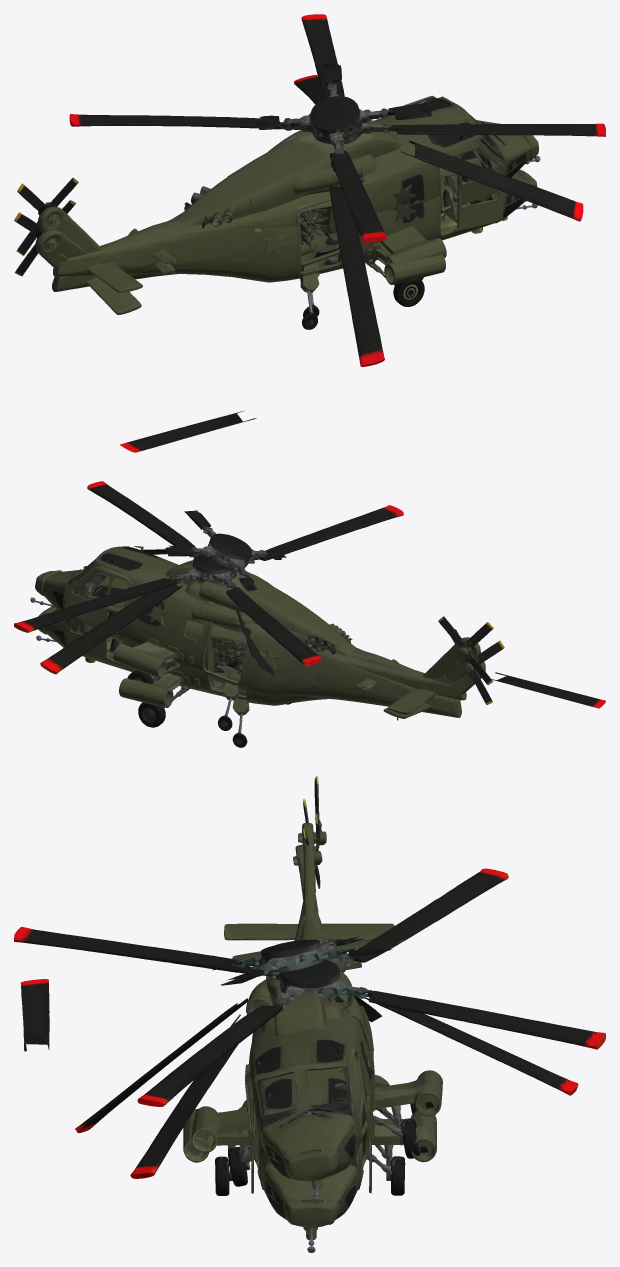
File: heli_yanshuf.glb
3 views of the same model, one above another, from view 1: azimuth 30°, elevation 25°; view 2: azimuth 150°, elevation 25°; view 3: azimuth 270°, elevation 25° (orthographic). The views are drawn at different scales.
Visible parts, largest first — view 1: WRECK_hull_hull, hull_hull, WRECK_rotor_metal, rotor_metal; view 2: WRECK_hull_hull, hull_hull, rotor_metal, WRECK_rotor_metal; view 3: WRECK_hull_hull, hull_hull, rotor_metal, WRECK_rotor_metal.
Part boxes in pixels (x1,y1,x2,y2): WRECK_hull_hull: (14,95,540,317); hull_hull: (16,150,537,329); WRECK_rotor_metal: (120,63,583,452); rotor_metal: (69,14,605,242); WRECK_hull_hull: (30,546,504,730); hull_hull: (36,575,493,747); rotor_metal: (14,481,403,666); WRECK_rotor_metal: (40,510,605,708); WRECK_hull_hull: (191,798,442,1203); hull_hull: (183,776,436,1252); rotor_metal: (14,868,605,1106); WRECK_rotor_metal: (20,936,578,1178).
Size of the model in its own units: 5.39 by 1.91 by 4.32.
Materials: 1 (1 with a texture image).
